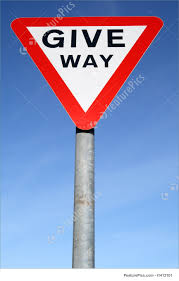giveway: (39, 71, 131, 132), (11, 19, 163, 44), (33, 62, 83, 132), (19, 14, 76, 74), (91, 14, 128, 103)
